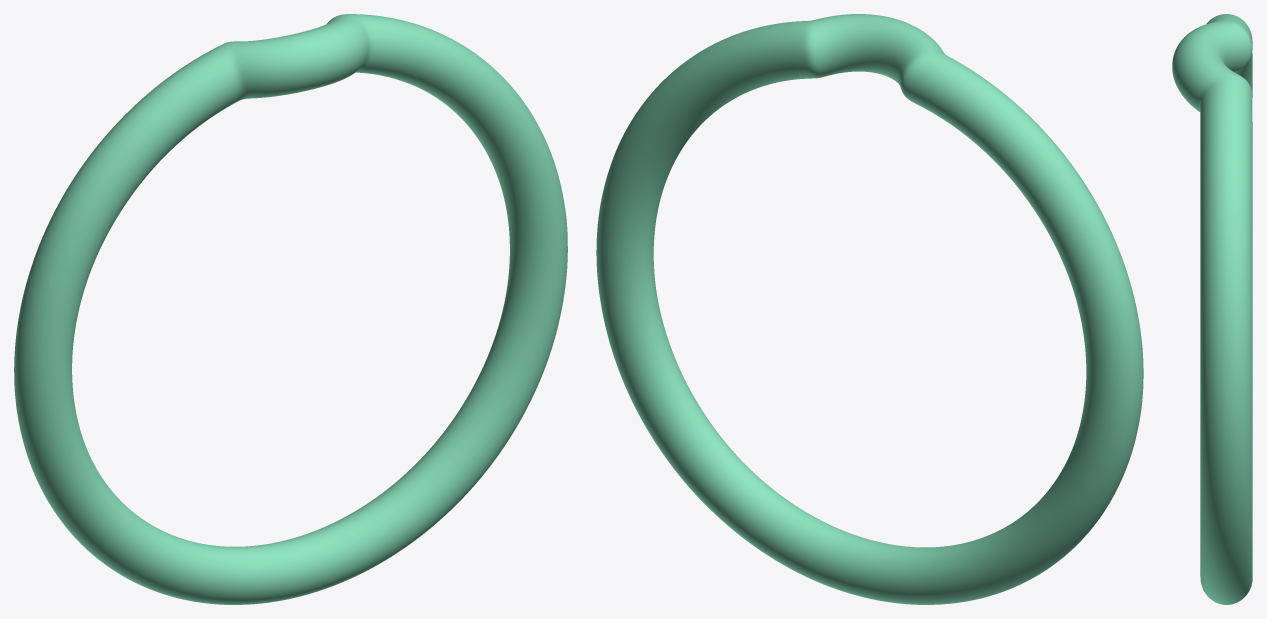
3 views of the same model, side by side, from view 1: azimuth 30°, elevation 25°; view 2: azimuth 150°, elevation 25°; view 3: azimuth 270°, elevation 25° (orthographic). The views are drawn at different scales.
Parts seen in each view (by area): view 1: Metal03; view 2: Metal03; view 3: Metal03.
Part boxes in pixels (box(x1,y1,x2,y2)): Metal03: box(14, 14, 567, 604); Metal03: box(596, 14, 1143, 604); Metal03: box(1172, 14, 1252, 604).
Bounding box in the file's own units: 21.28 × 21.28 × 2.9.
